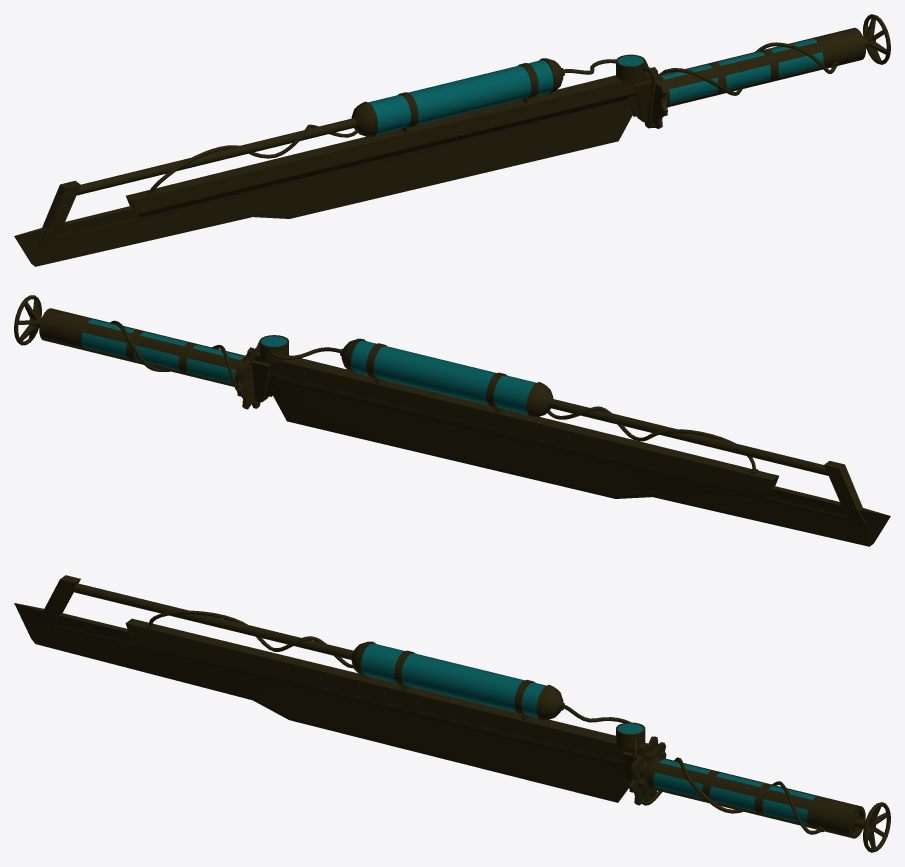
Rendered from Model_Steampunk_Sword.FBX.
The picture shows the model from 3 angles, top to bottom: view 1: azimuth 30°, elevation 25°; view 2: azimuth 150°, elevation 25°; view 3: azimuth 330°, elevation 25°; orthographic projection.
Visible parts, largest first — view 1: Model_Steampunk_Sword; view 2: Model_Steampunk_Sword; view 3: Model_Steampunk_Sword.
Part boxes in pixels (left/top/right/bottom): Model_Steampunk_Sword: left=14, top=14, right=890, bottom=266; Model_Steampunk_Sword: left=14, top=295, right=890, bottom=546; Model_Steampunk_Sword: left=14, top=575, right=890, bottom=852.
Size of the model in its own units: 96.39 by 10.56 by 6.82.
